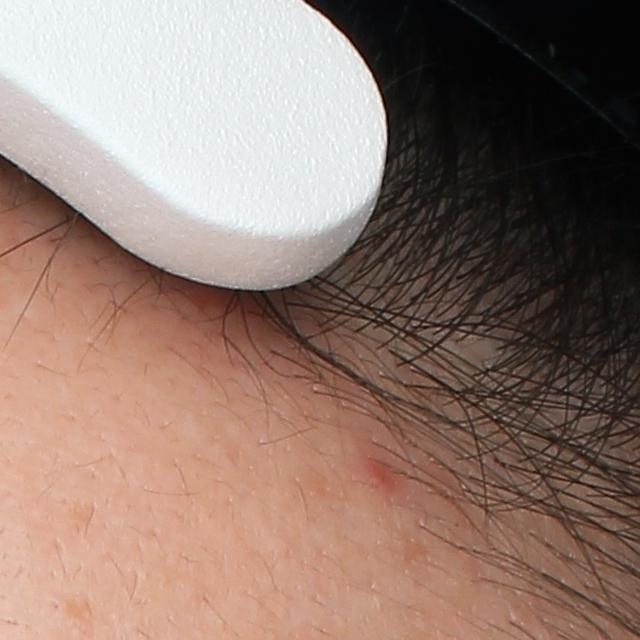papule: (362, 454, 399, 491)
